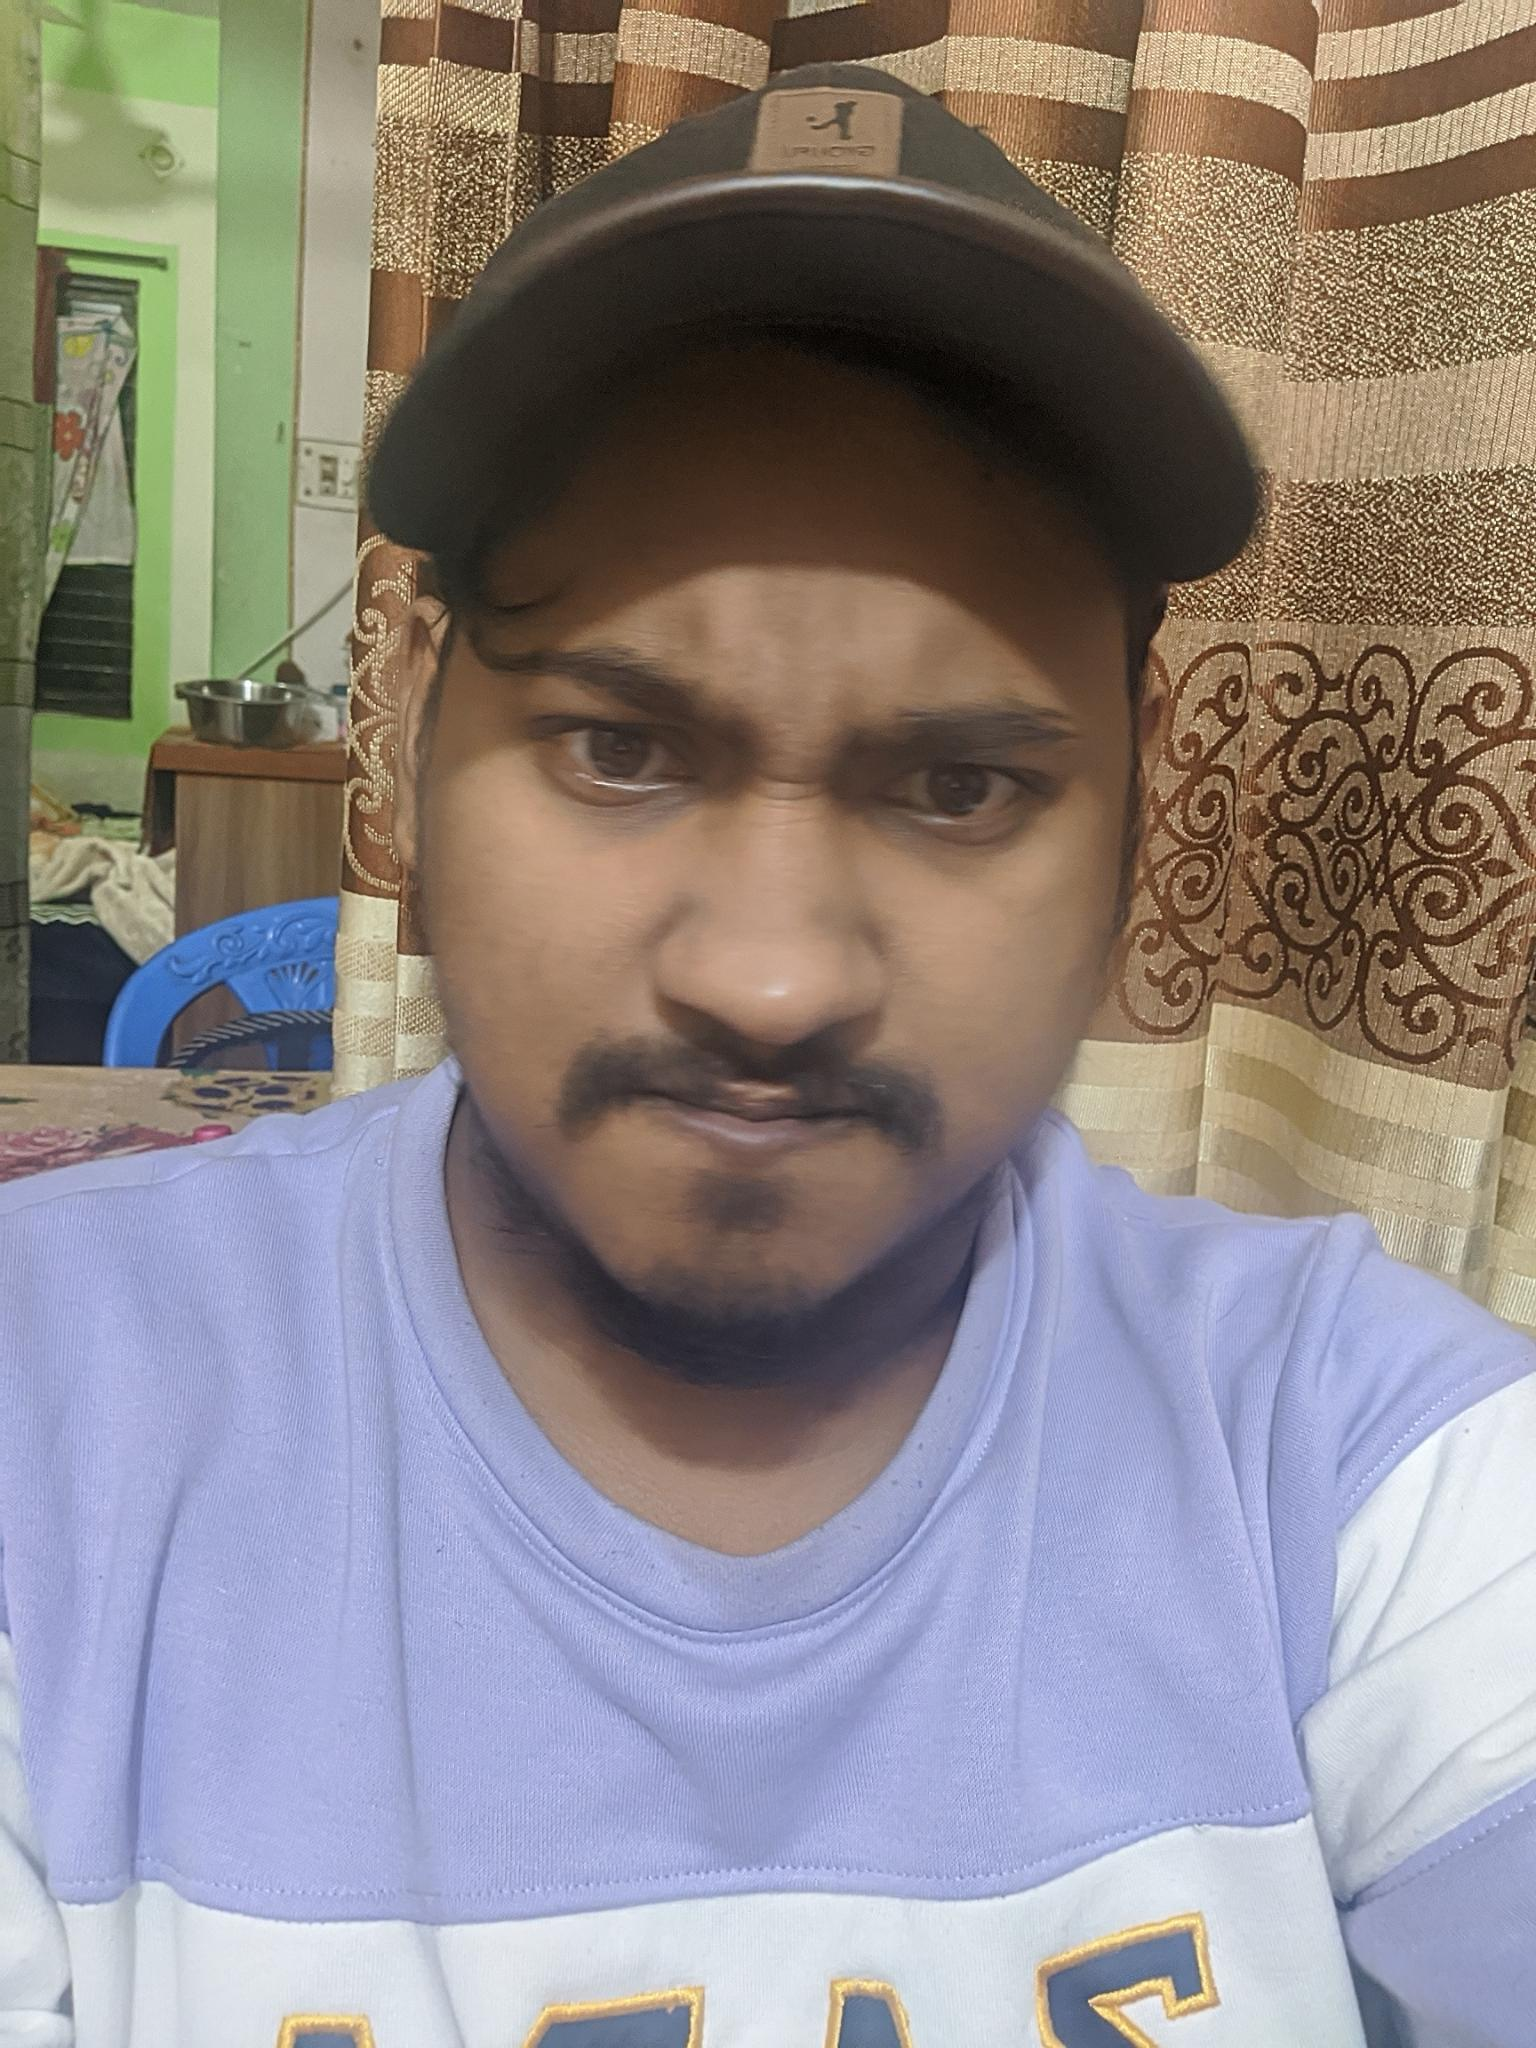Angry: (423, 587, 1133, 1269)
